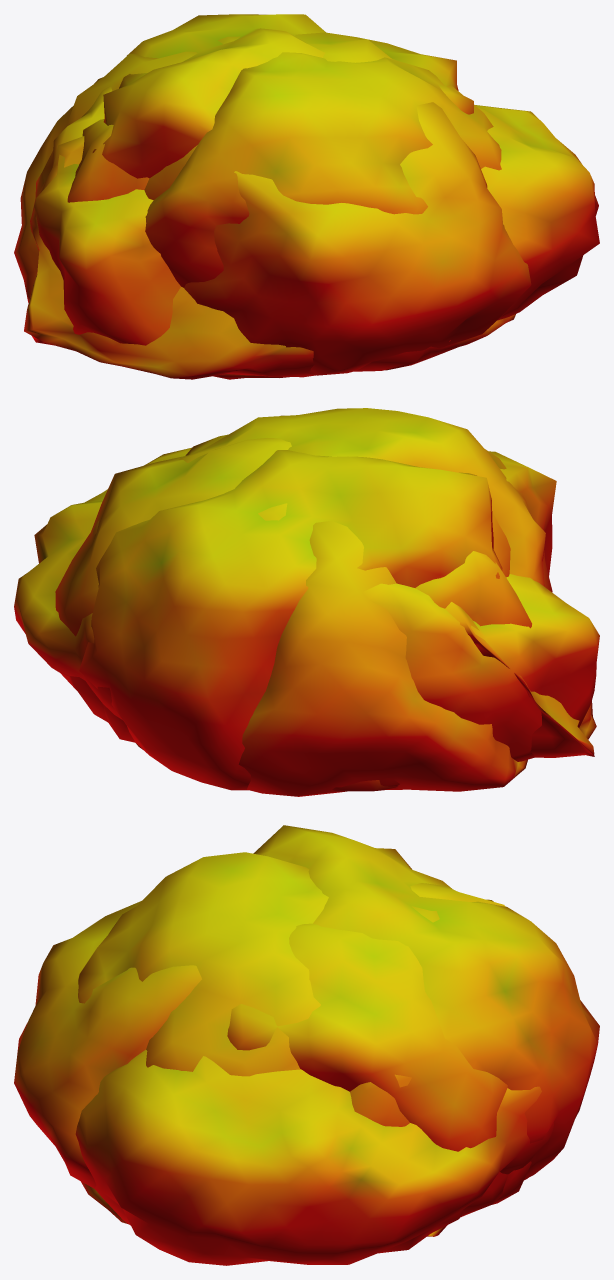
The model's file is rocks.glb.
3 renders of one model, top to bottom at view 1: azimuth 30°, elevation 25°; view 2: azimuth 150°, elevation 25°; view 3: azimuth 270°, elevation 25°, orthographic. The views are drawn at different scales.
Parts seen in each view (by area): view 1: rock_1_lod0, rock_3_lod0, rock_5_lod0, rock_4_lod0, rock_2_lod0, rock_0_lod0; view 2: rock_2_lod0, rock_1_lod0, rock_4_lod0, rock_3_lod0, rock_5_lod0, rock_0_lod0; view 3: rock_5_lod0, rock_2_lod0, rock_3_lod0, rock_4_lod0, rock_1_lod0.
Boxes of the visible parts, box(x1,y1,x2,y2) form: rock_1_lod0: box(14, 51, 531, 379); rock_3_lod0: box(145, 52, 501, 287); rock_5_lod0: box(24, 105, 599, 379); rock_4_lod0: box(30, 32, 473, 345); rock_2_lod0: box(92, 14, 515, 370); rock_0_lod0: box(67, 119, 149, 202); rock_2_lod0: box(79, 450, 502, 790); rock_1_lod0: box(136, 415, 556, 796); rock_4_lod0: box(55, 434, 599, 789); rock_3_lod0: box(102, 408, 545, 791); rock_5_lod0: box(14, 447, 596, 757); rock_0_lod0: box(415, 551, 531, 628); rock_5_lod0: box(75, 1049, 553, 1265); rock_2_lod0: box(81, 825, 599, 1224); rock_3_lod0: box(78, 852, 531, 1204); rock_4_lod0: box(227, 906, 508, 1217); rock_1_lod0: box(14, 883, 505, 1236).
Size of what is drawn, in the model's own units: 2.79 by 1.33 by 2.44.
